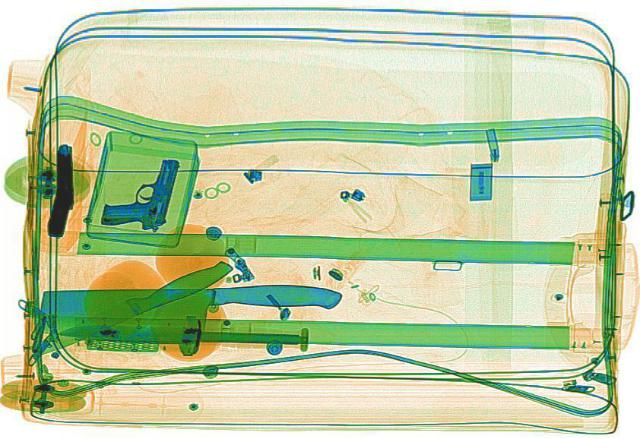Gun: (97, 153, 179, 230), (40, 142, 82, 235)
Knife: (20, 255, 238, 359), (34, 283, 342, 344), (59, 322, 298, 347)
